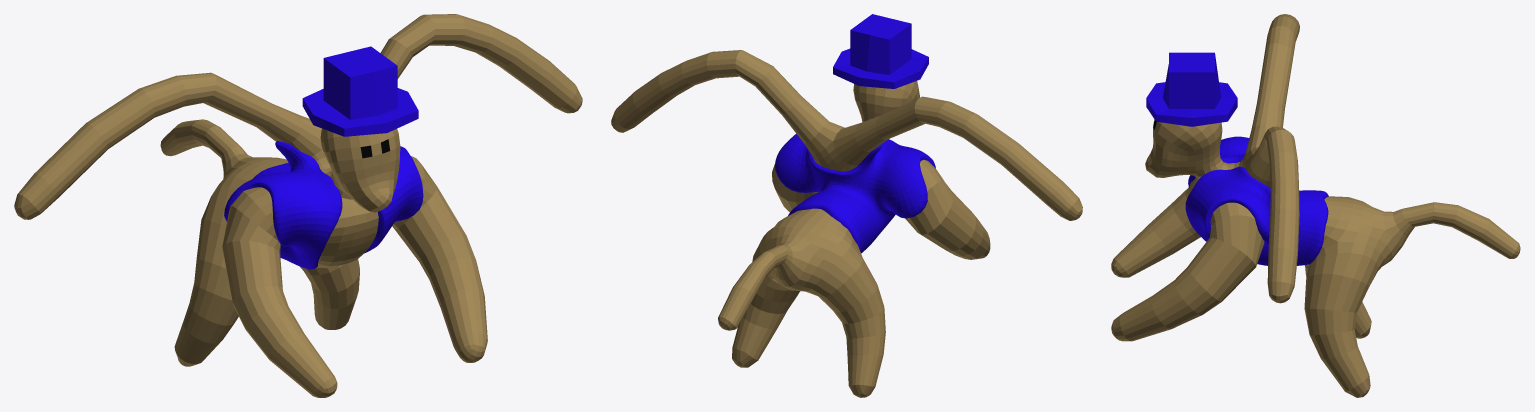
Rendered from Monkey2Pose2.fbx.
3 views of the same model, side by side, from view 1: azimuth 30°, elevation 25°; view 2: azimuth 150°, elevation 25°; view 3: azimuth 270°, elevation 25° (orthographic). The views are drawn at different scales.
Parts seen in each view (by area): view 1: MonkeyV2_1_Group55568, vest3, pCube5; view 2: MonkeyV2_1_Group55568, vest3, pCube5; view 3: MonkeyV2_1_Group55568, vest3, pCube5.
Part boxes in pixels (<box>): MonkeyV2_1_Group55568: <box>14,14,582,397</box>; vest3: <box>224,141,423,269</box>; pCube5: <box>302,46,418,136</box>; MonkeyV2_1_Group55568: <box>611,50,1082,397</box>; vest3: <box>775,134,935,253</box>; pCube5: <box>833,14,928,88</box>; MonkeyV2_1_Group55568: <box>1111,14,1520,397</box>; vest3: <box>1185,136,1328,265</box>; pCube5: <box>1146,52,1237,126</box>.
Size of the model in its own units: 11.3 by 6.81 by 8.24.
